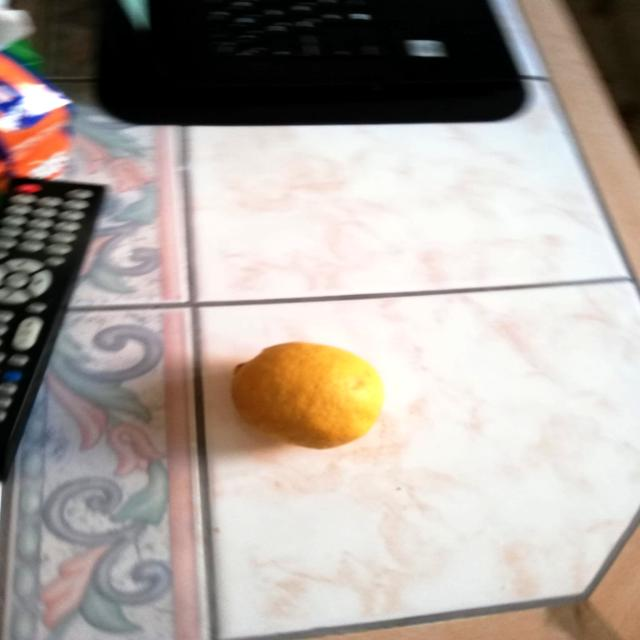lemon: (225, 325, 393, 454)
